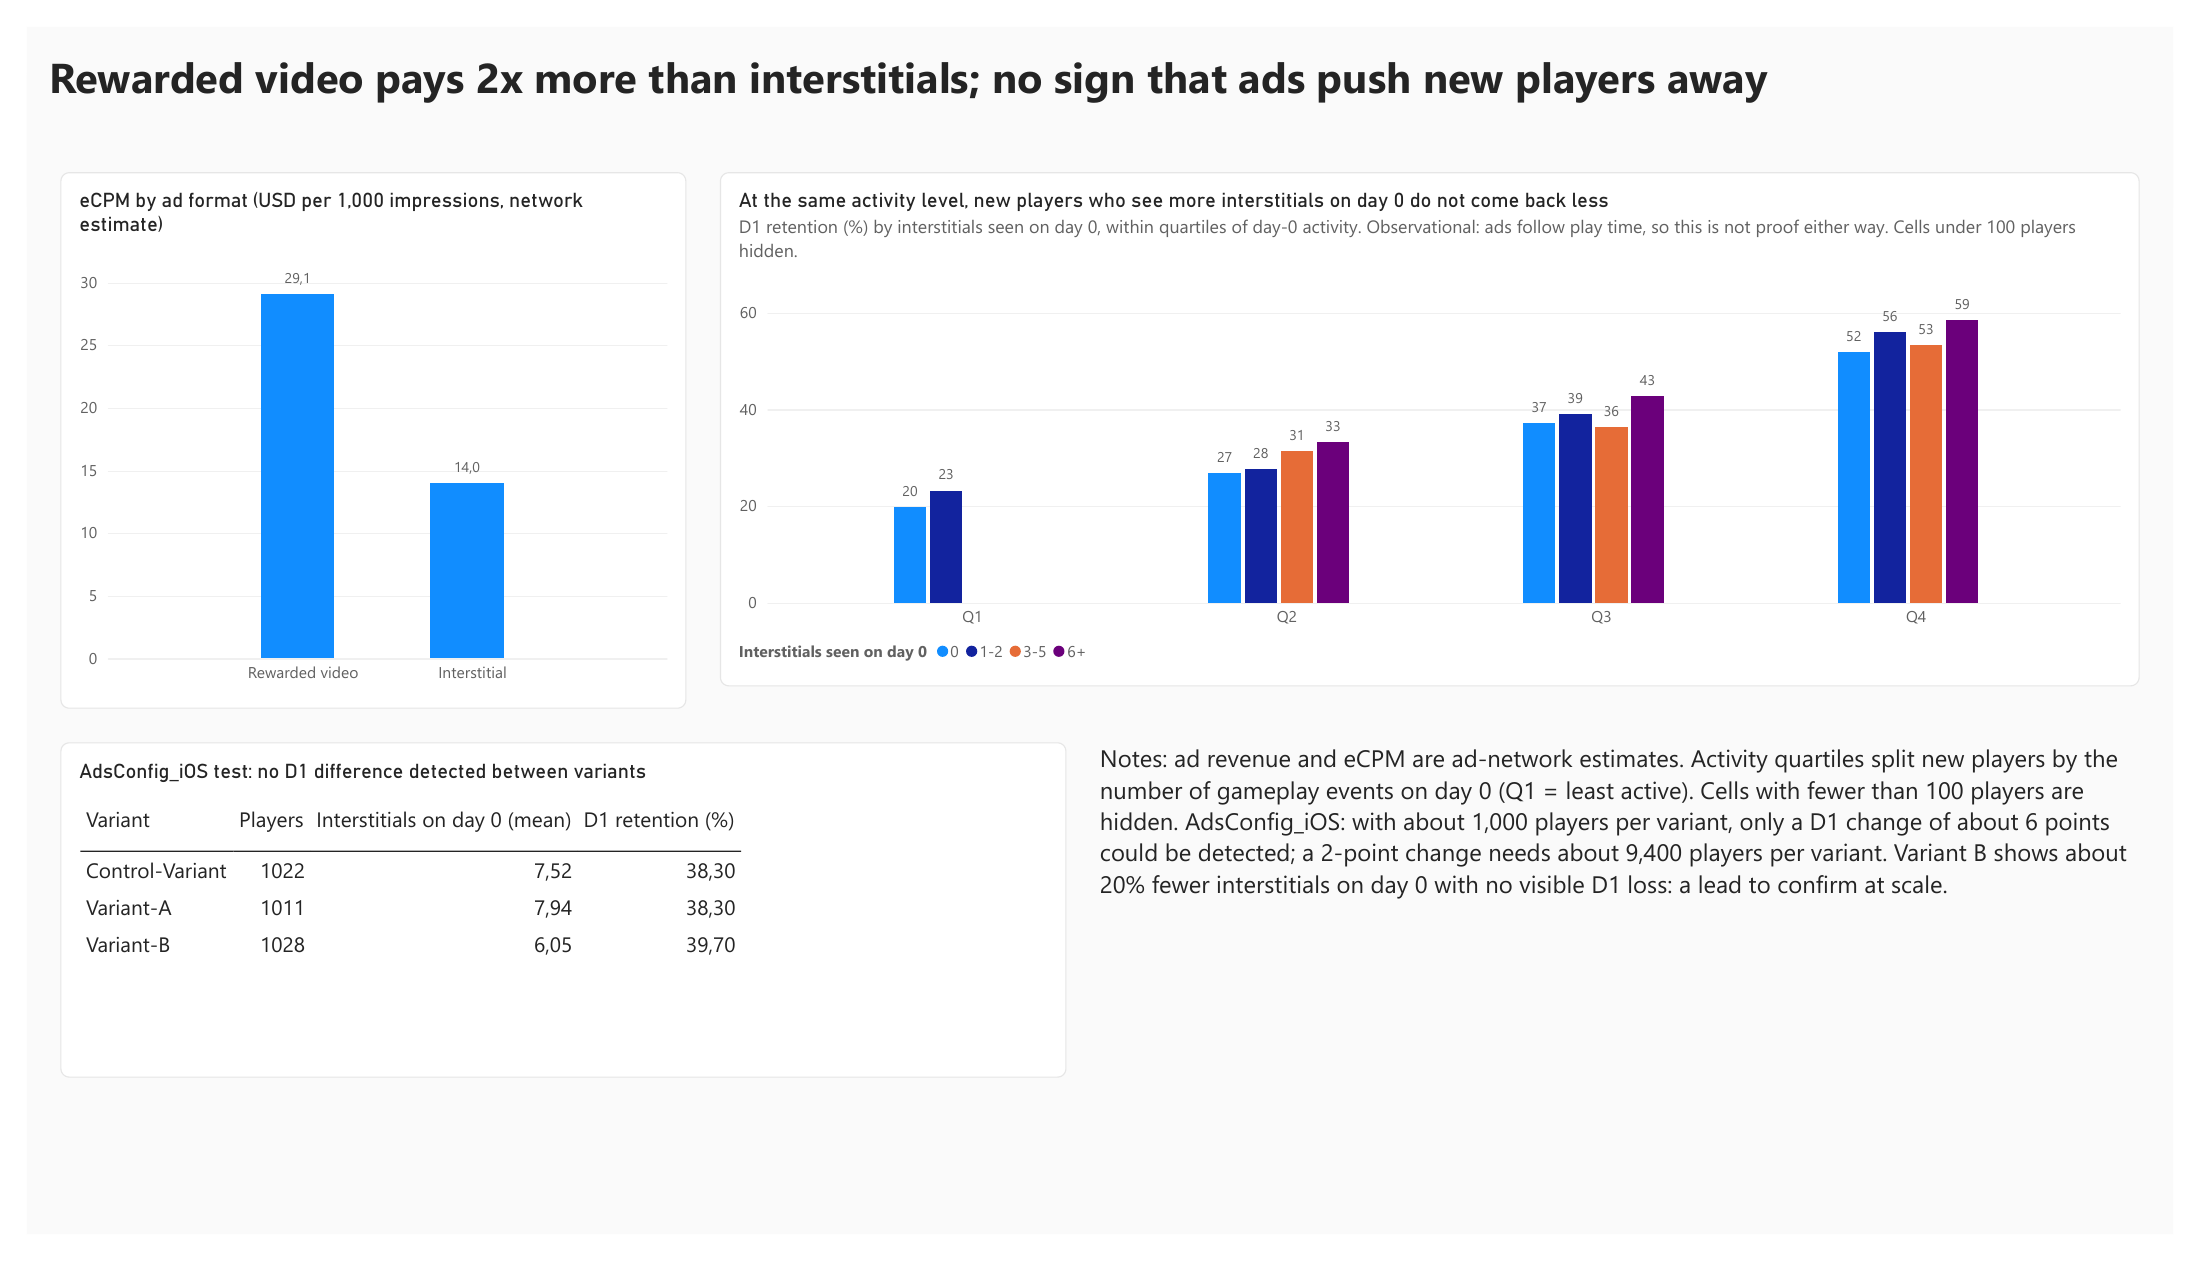

The dashboard page shown, as its layout file describes it:
{"tool":"powerbi","page":{"name":"Ads","canvas":[1920,1080],"ordinal":1},"visuals":[{"type":"clusteredColumnChart","title":"eCPM by ad format (USD per 1,000 impressions, network estimate)\t","fields":{"Category":["ads_by_format.ad_format"],"Y":["Sum(ads_by_format.ecpm_usd)"]},"box":[30,130,560,480],"z":0},{"type":"clusteredColumnChart","title":"At the same activity level, new players who see more interstitials on day 0 do not come back less\t","fields":{"Category":["ads_exposure_d1.activity_quartile"],"Series":["ads_exposure_d1.interstitials_day0"],"Y":["Sum(ads_exposure_d1.d1_pct)"]},"box":[620,130,1270,460],"z":1},{"type":"tableEx","title":"AdsConfig_iOS test: no D1 difference detected between variants\t","fields":{"Values":["experiment_ads_config.variant","Sum(experiment_ads_config.players)","Sum(experiment_ads_config.interstitials_day0)","Sum(experiment_ads_config.d1_pct)"]},"box":[30,640,900,300],"z":2},{"type":"textbox","box":[960,640,930,300],"z":3},{"type":"textbox","box":[20,20,1880,90],"z":4}]}

Visuals, with their boxes in screenshot pixels (x1, y1, x2, y2), scaled from the page's 1920x1080 canvas onto the 2200x1261 screenshot:
"eCPM by ad format (USD per 1,000 impressions, network estimate)	" clusteredColumnChart: 34, 152, 676, 712
"At the same activity level, new players who see more interstitials on day 0 do not come back less	" clusteredColumnChart: 710, 152, 2166, 689
"AdsConfig_iOS test: no D1 difference detected between variants	" tableEx: 34, 747, 1066, 1098
textbox: 1100, 747, 2166, 1098
textbox: 23, 23, 2177, 128
